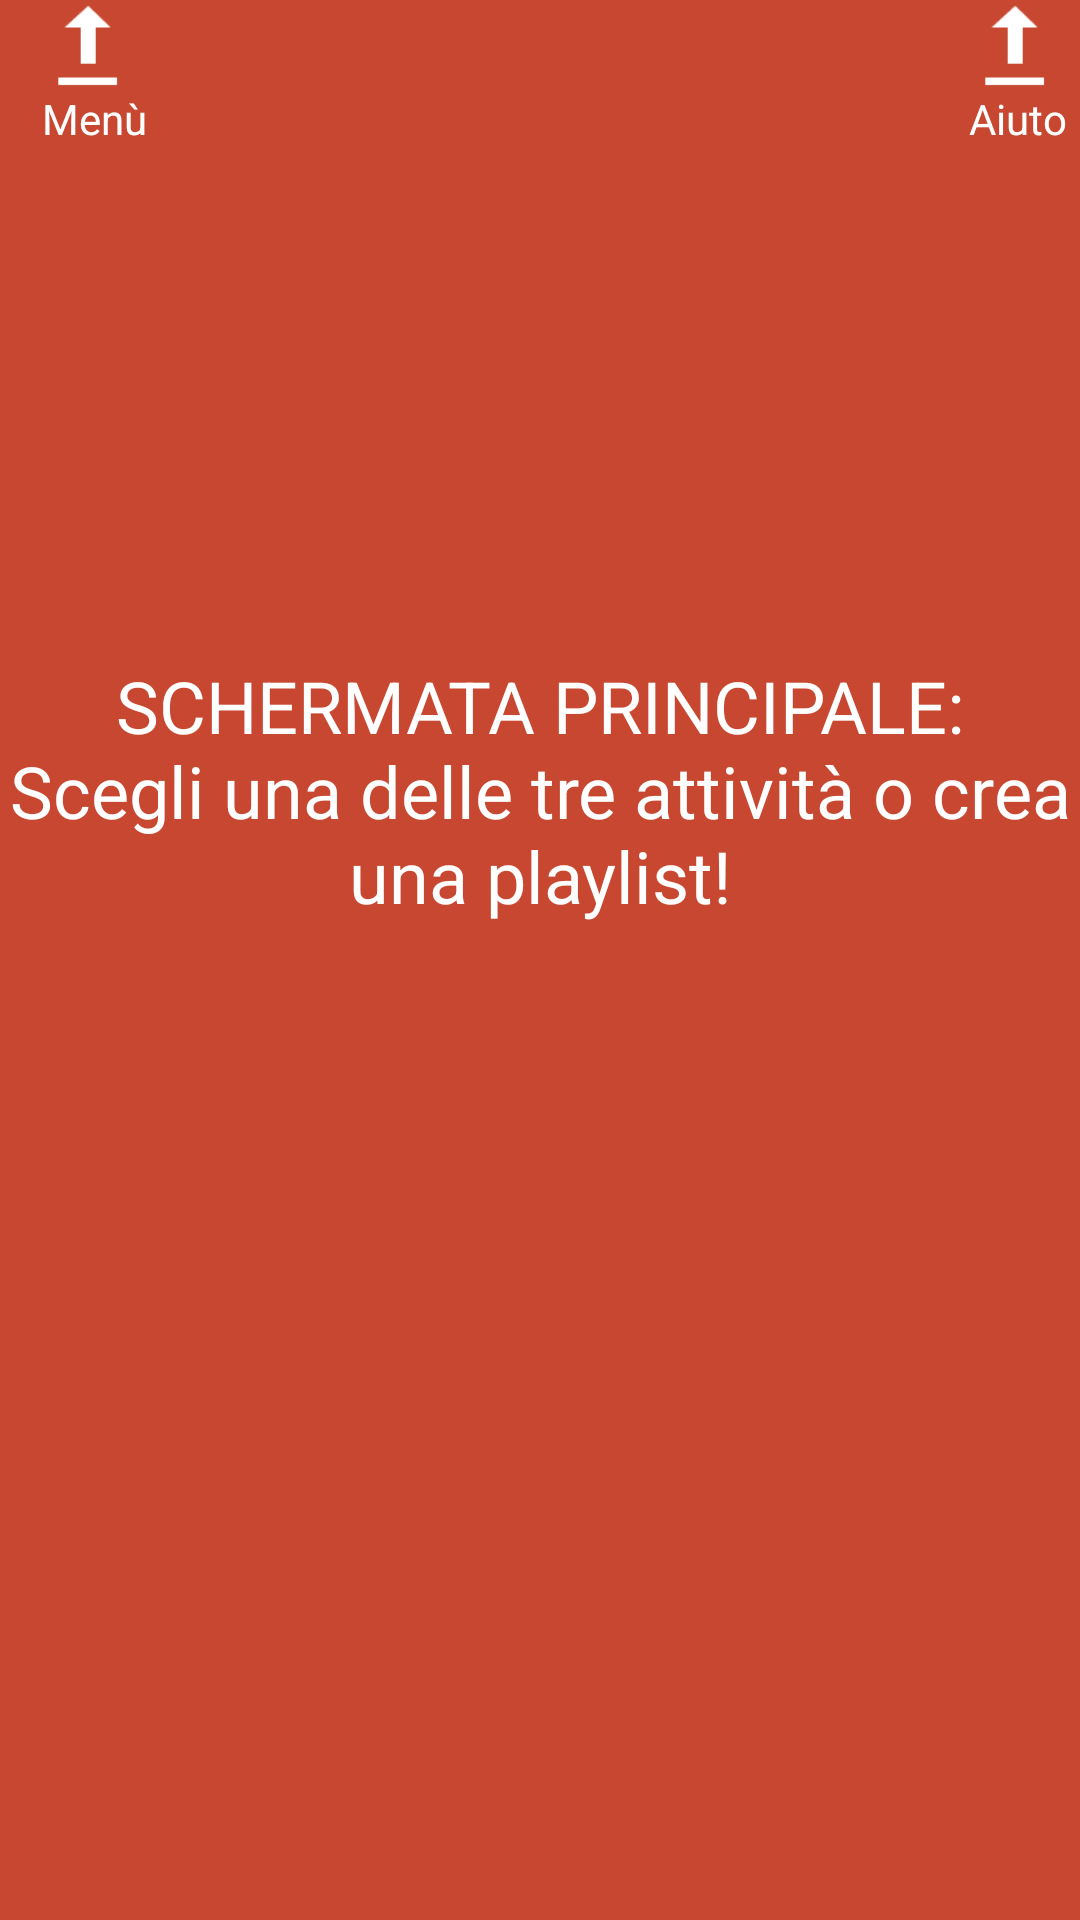

Screen size 1080px x 1920px. Icon name, then its center in pixels as point (x, y):
upload: point (87, 45), point (1014, 45)
